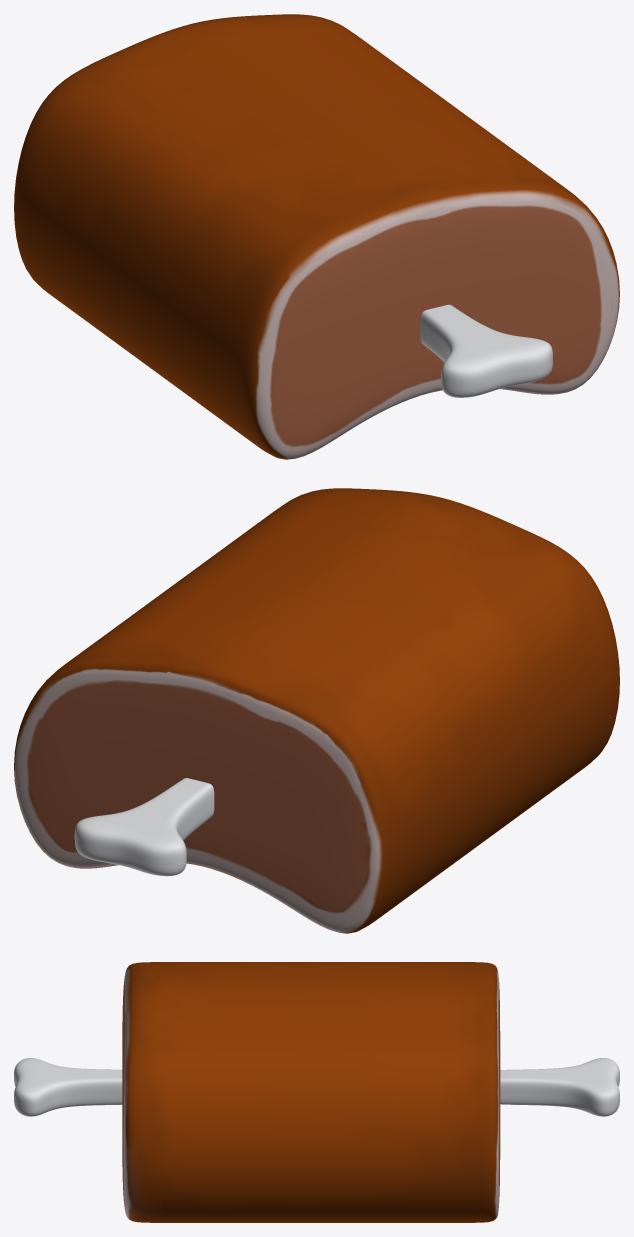
Rendered from SM_Meat.fbx.
3 renders of one model, top to bottom at view 1: azimuth 30°, elevation 25°; view 2: azimuth 150°, elevation 25°; view 3: azimuth 270°, elevation 25°, orthographic. The views are drawn at different scales.
Visible parts, largest first — view 1: SM_Meat; view 2: SM_Meat; view 3: SM_Meat.
Boxes of the visible parts, box(x1,y1,x2,y2) form: SM_Meat: box(14, 14, 619, 459); SM_Meat: box(14, 488, 619, 933); SM_Meat: box(14, 962, 619, 1222).
Size of the model in its own units: 40.04 by 24.05 by 73.73.
